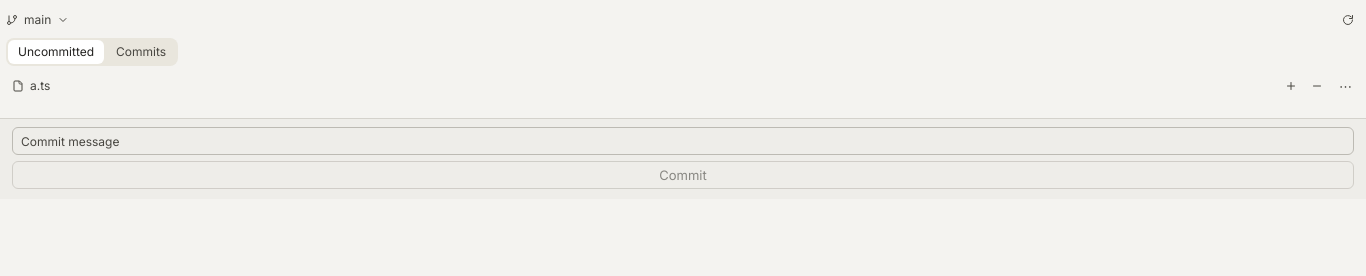
ChangesSurface › puts a diff request in flight the moment a remembered selection is current again
The image size is (1366, 276).
Click the button with class "workspace-file-change" at (18, 86), box [6,74,1275,98]
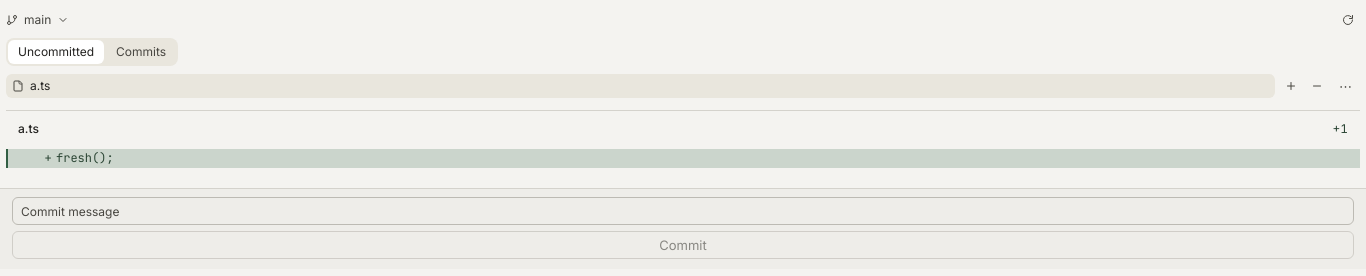
Expected: the text "fresh();" is shown, [56,150,114,166]
